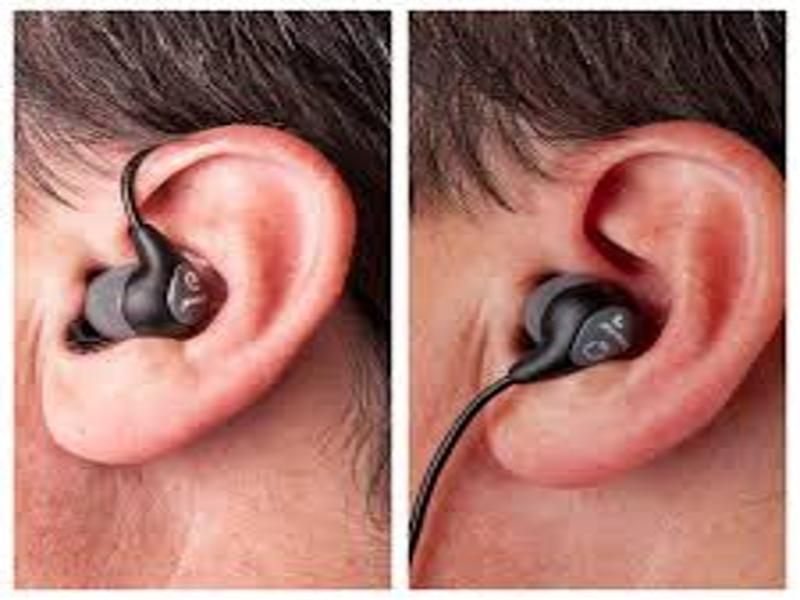headphone: (510, 275, 650, 386), (81, 230, 216, 343)
